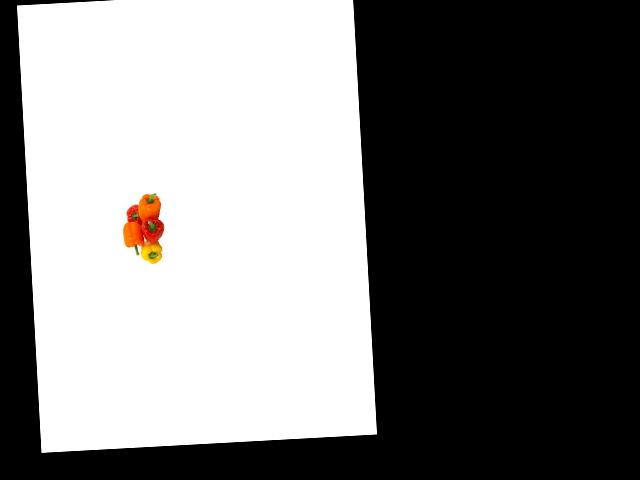bell_pepper: (134, 186, 164, 222)
